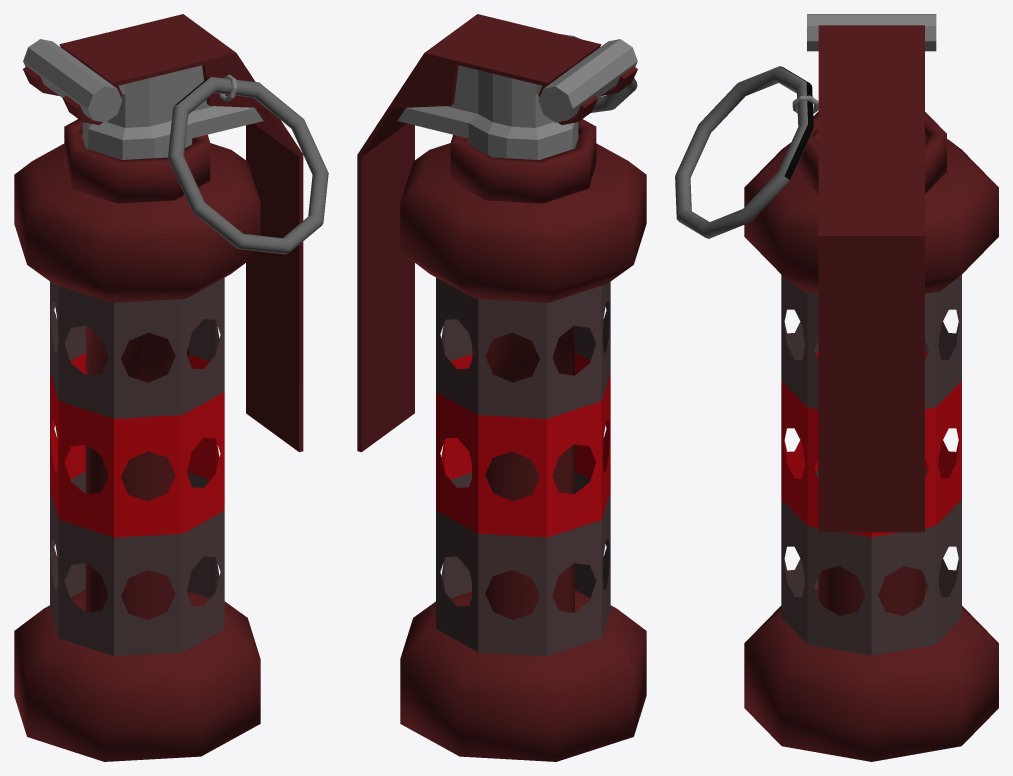
File: Decoy.fbx
The picture shows the model from 3 angles, left to right: view 1: azimuth 30°, elevation 25°; view 2: azimuth 150°, elevation 25°; view 3: azimuth 270°, elevation 25°; orthographic projection.
Parts seen in each view (by area): view 1: Decoy - Main.001; view 2: Decoy - Main.001; view 3: Decoy - Main.001.
Part boxes in pixels (x1,y1,x2,y2): Decoy - Main.001: (14, 14, 328, 761); Decoy - Main.001: (357, 14, 646, 761); Decoy - Main.001: (675, 14, 998, 761).
Size of the model in its own units: 57.68 by 146 by 64.86.
